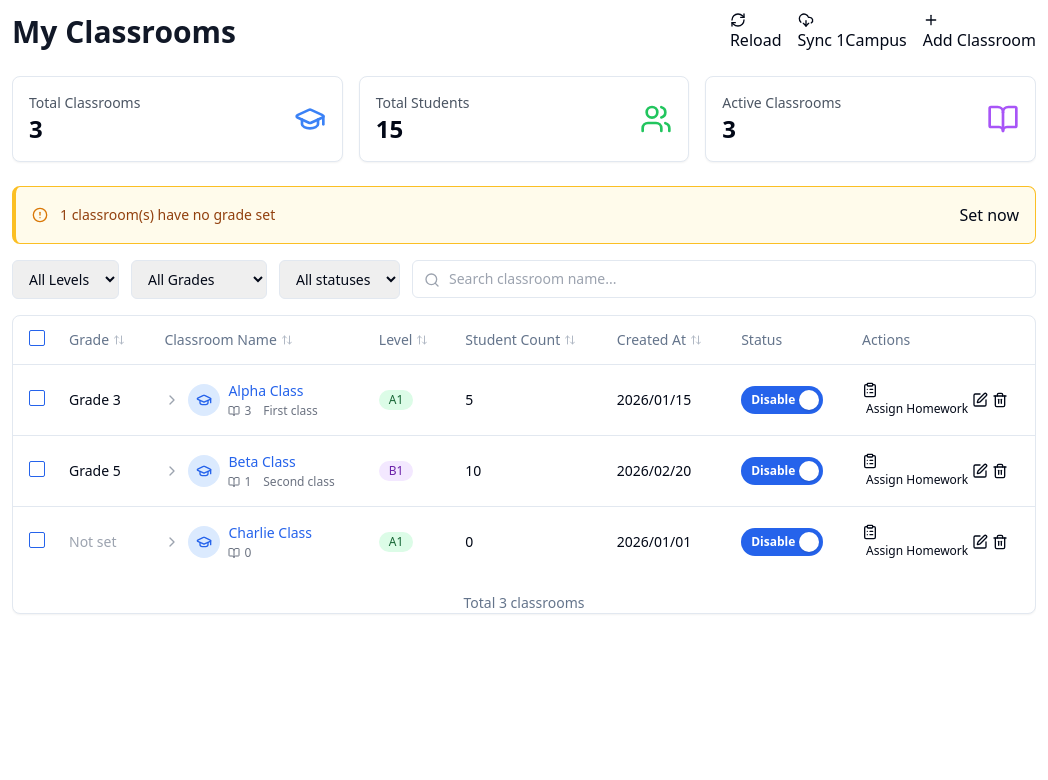
Test: TeacherClassrooms › Level Filter › should filter classrooms by level
Select "B1" in the 1st dropdown at (66, 280), box [12, 260, 119, 299]
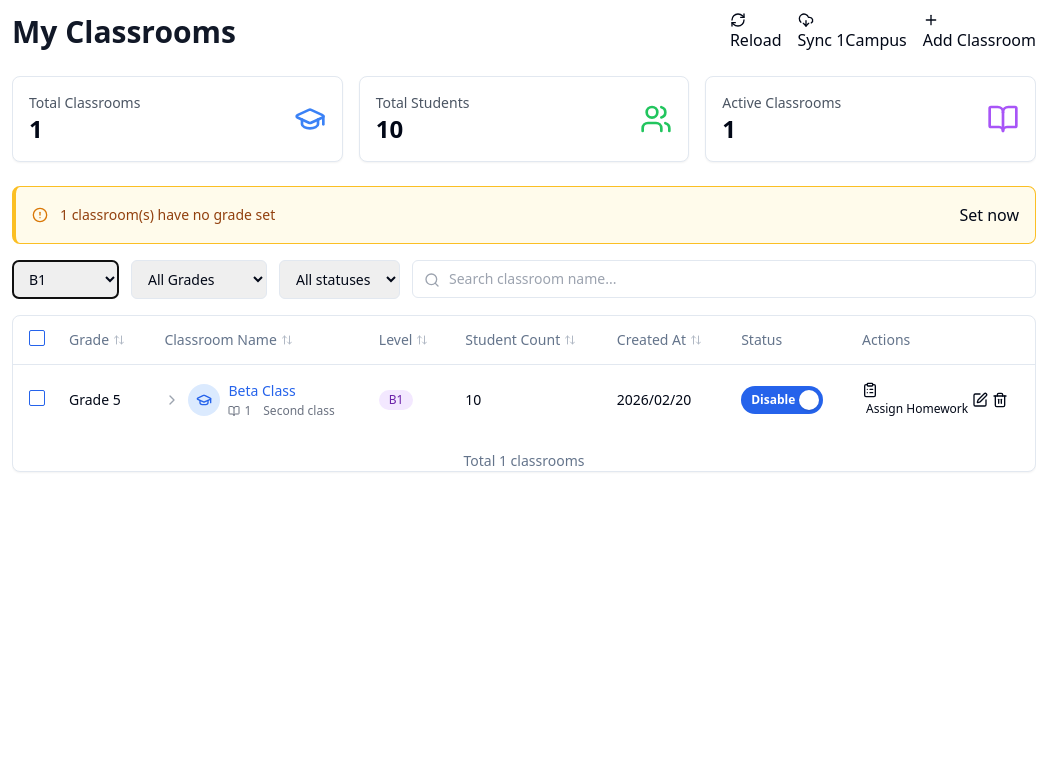
Now the link "Alpha Class" is gone
